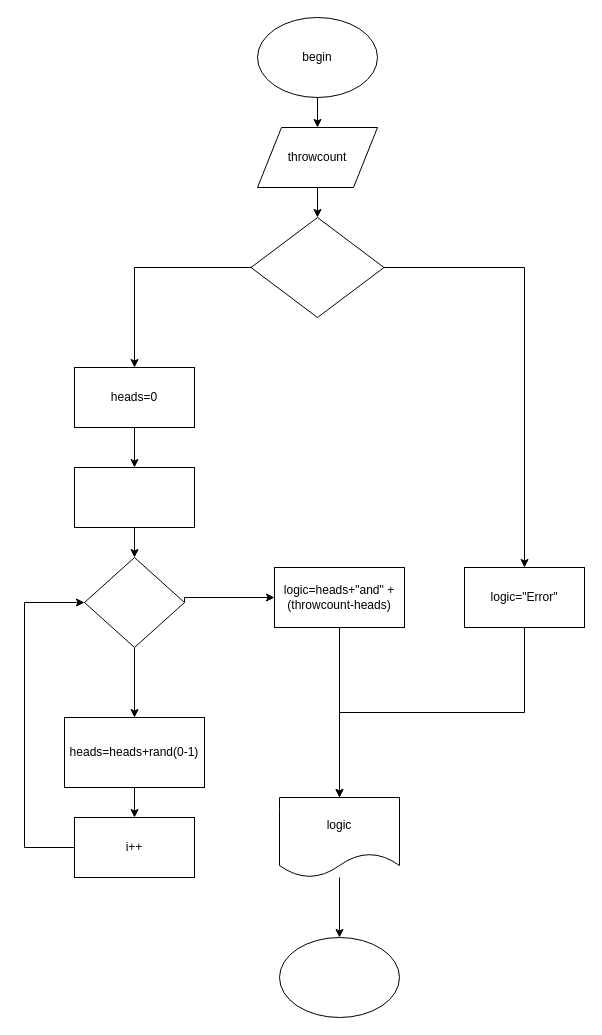
The diagram is 602 pixels wide and 1035 high, and some of its shapes have lost their labels. Each missing label, with the centre of its shape:
"end" belongs at (x=339, y=977).
"i<throwcount" belongs at (x=134, y=602).
"i=0" belongs at (x=134, y=497).
"throwcount >= 0" belongs at (x=317, y=267).
